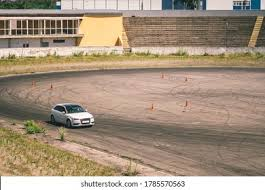car: (46, 101, 98, 129)
cone: (183, 97, 190, 110), (150, 102, 156, 113), (48, 82, 54, 91), (30, 79, 36, 88), (160, 72, 165, 80), (184, 75, 188, 83)
